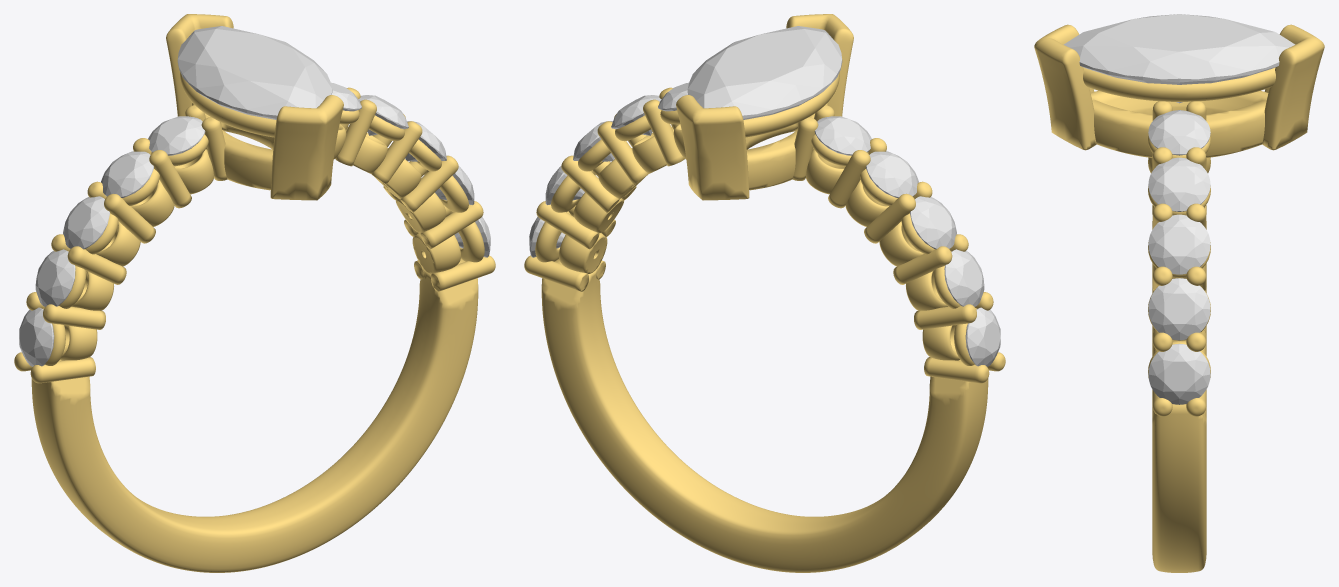
File: diamond-marquise-yellowgold-protectededges2prongs-straightband-11stone.glb
The picture shows the model from 3 angles, left to right: view 1: azimuth 30°, elevation 25°; view 2: azimuth 150°, elevation 25°; view 3: azimuth 270°, elevation 25°; orthographic projection. The views are drawn at different scales.
Parts seen in each view (by area): view 1: metal, stone, dia.004, dia.005, dia.003, dia.006, dia, dia.010; view 2: metal, stone, dia.004, dia.005, dia.003, dia.006, dia, dia.010; view 3: metal, stone, dia.008, dia.007, dia.009, dia.010, dia.011.
Boxes of the visible parts, bbox=[...] form: metal: bbox=[14, 14, 495, 572]; stone: bbox=[177, 26, 332, 119]; dia.004: bbox=[63, 196, 109, 249]; dia.005: bbox=[101, 151, 153, 197]; dia.003: bbox=[35, 249, 75, 306]; dia.006: bbox=[148, 116, 205, 155]; dia: bbox=[19, 307, 54, 366]; dia.010: bbox=[358, 95, 408, 135]; metal: bbox=[524, 14, 1005, 572]; stone: bbox=[687, 26, 842, 119]; dia.004: bbox=[910, 196, 956, 249]; dia.005: bbox=[866, 151, 918, 197]; dia.003: bbox=[944, 249, 984, 306]; dia.006: bbox=[814, 116, 871, 155]; dia: bbox=[965, 307, 1000, 366]; dia.010: bbox=[611, 95, 661, 135]; metal: bbox=[1034, 24, 1324, 572]; stone: bbox=[1063, 14, 1295, 103]; dia.008: bbox=[1148, 278, 1210, 340]; dia.007: bbox=[1148, 343, 1210, 404]; dia.009: bbox=[1148, 214, 1210, 274]; dia.010: bbox=[1148, 157, 1210, 211]; dia.011: bbox=[1148, 110, 1210, 155].
Bounding box in the file's own units: 21.97 × 22.94 × 11.69.
